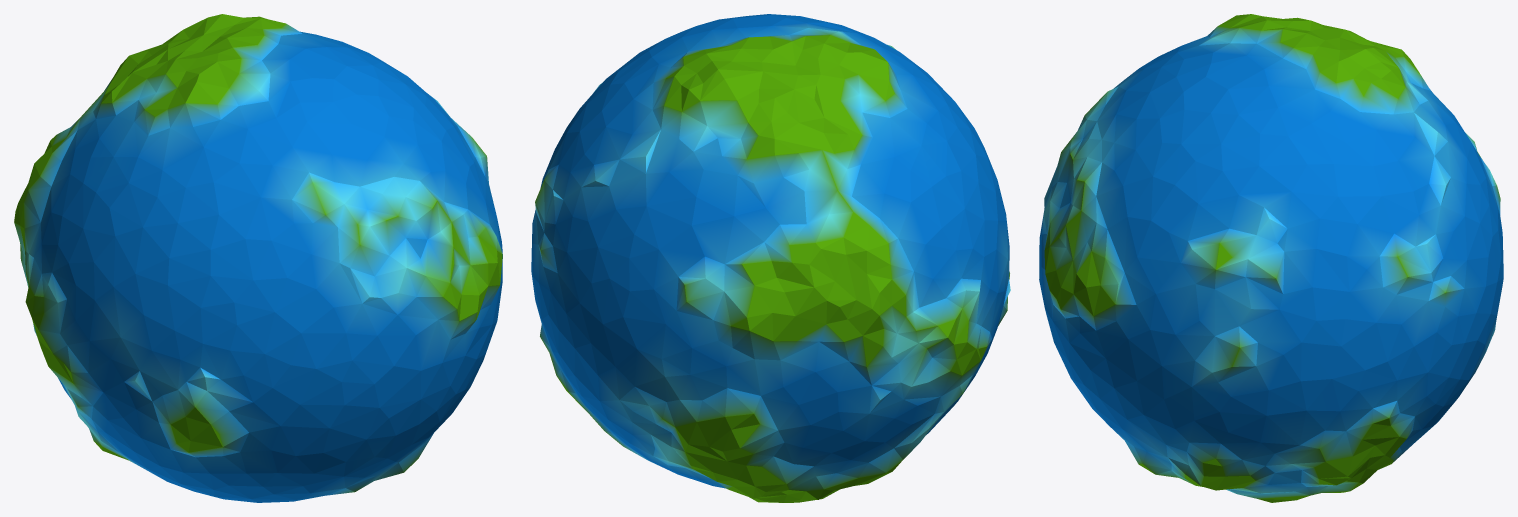
File: Earth.fbx
The picture shows the model from 3 angles, left to right: view 1: azimuth 30°, elevation 25°; view 2: azimuth 150°, elevation 25°; view 3: azimuth 270°, elevation 25°; orthographic projection. The views are drawn at different scales.
Parts seen in each view (by area): view 1: file1; view 2: file1; view 3: file1.
Boxes of the visible parts, <box> form: file1: <box>14,14,502,502</box>; file1: <box>531,14,1010,502</box>; file1: <box>1039,14,1503,502</box>.
Size of the model in its own units: 2.05 by 2.07 by 2.
